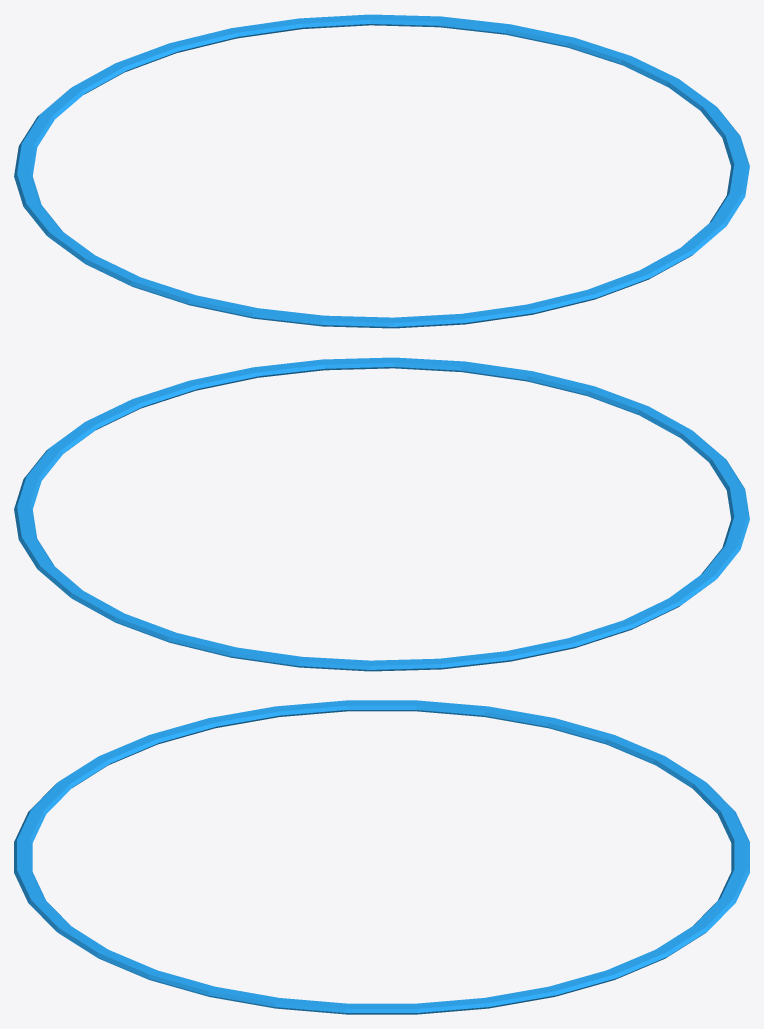
The model's file is new_smaller_ring.fbx.
3 renders of one model, top to bottom at view 1: azimuth 30°, elevation 25°; view 2: azimuth 150°, elevation 25°; view 3: azimuth 270°, elevation 25°, orthographic.
Visible parts, largest first — view 1: New Smaller Ring; view 2: New Smaller Ring; view 3: New Smaller Ring.
Boxes of the visible parts, x1,y1,x2,y2 form: New Smaller Ring: (14, 14, 749, 328); New Smaller Ring: (14, 357, 749, 671); New Smaller Ring: (14, 700, 749, 1014).
Size of the model in its own units: 95.54 by 0.8 by 95.54.
